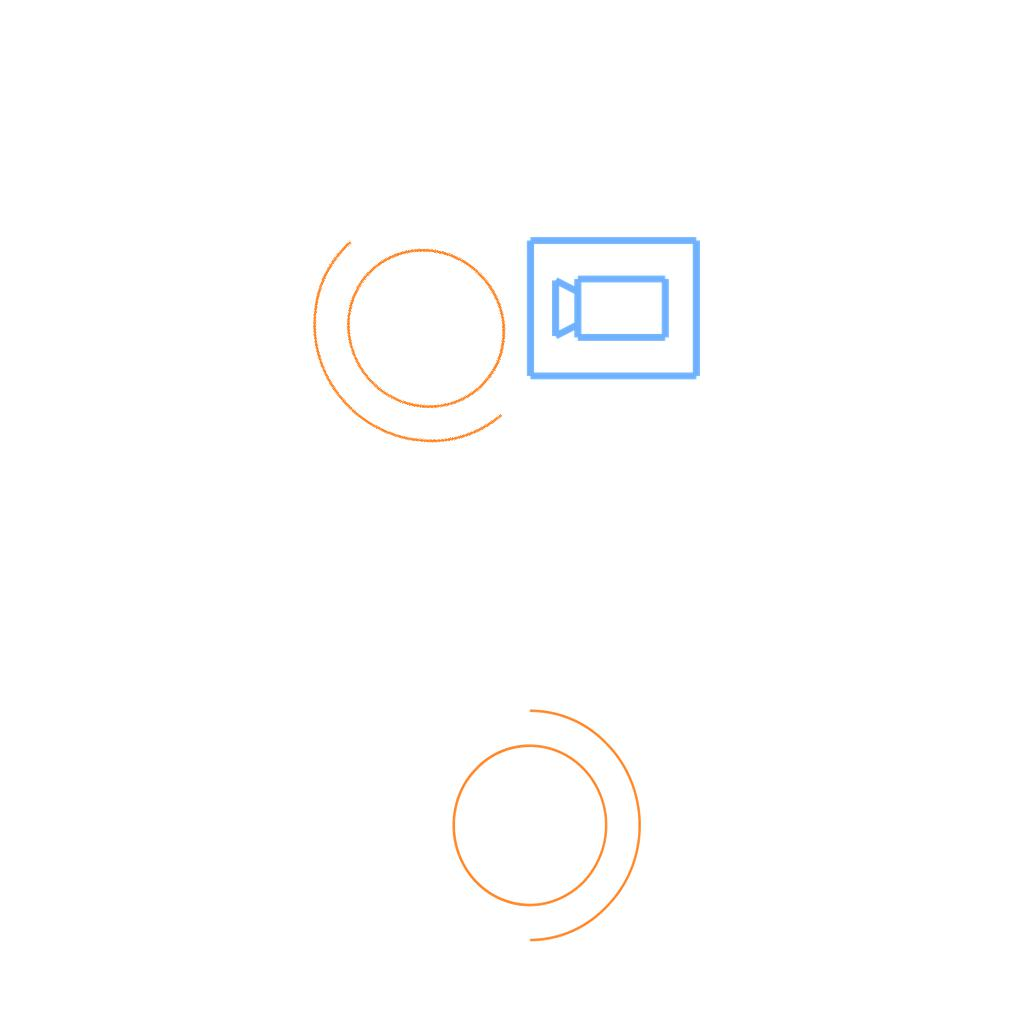KFO_Kamera_mit_Festobjektiv: (523, 230, 705, 384)
Scheinwerfer_fuer_Alarmbeleuchtung: (251, 166, 595, 513), (427, 687, 652, 951)
